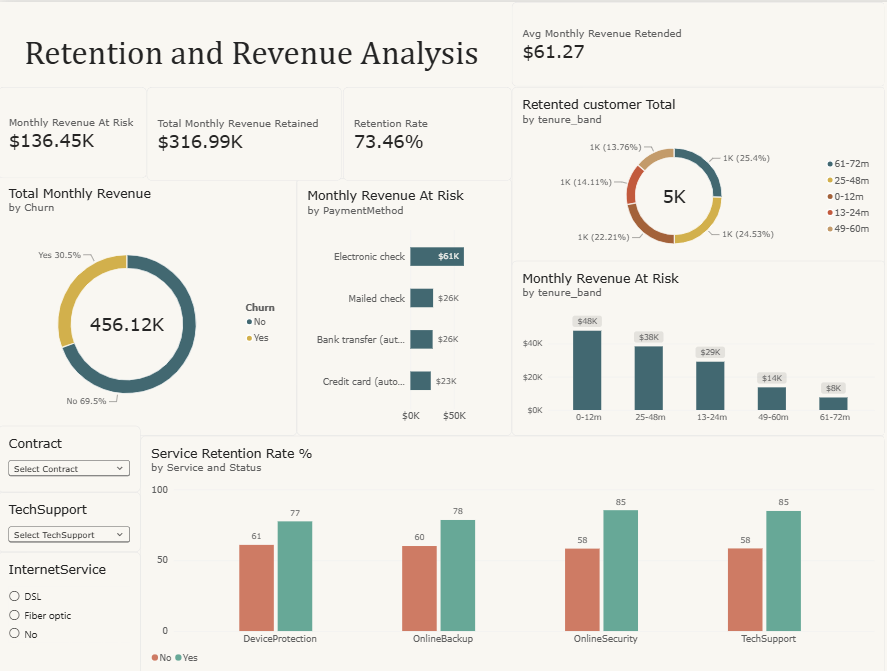

The dashboard page shown, as its layout file describes it:
{"tool":"powerbi","page":{"name":"Retention And Revenue Analysis","canvas":[1920,1080],"ordinal":2},"visuals":[{"type":"textbox","box":[0,48.3,1022.5,87.5],"z":0},{"type":"donutChart","fields":{"Category":["telco_clean_using_py.tenure_band"],"Y":["measures_.retention customer total"]},"box":[822,136,598,290],"z":1000},{"type":"donutChart","fields":{"Category":["telco_clean_using_py.Churn"],"Y":["Sum(telco_clean_using_py.MonthlyCharges)"]},"box":[0,278,478,416],"z":2000},{"type":"clusteredColumnChart","fields":{"Category":["telco_clean_using_py.tenure_band"],"Y":["measures_.Montly Revenue At Risk"]},"box":[822,414,598,280],"z":3000},{"type":"clusteredBarChart","fields":{"Category":["telco_clean_using_py.PaymentMethod"],"Y":["measures_.Montly Revenue At Risk"]},"box":[478,282,344,412],"z":4000},{"type":"cardVisual","fields":{"Data":["measures_.Retention Rate"]},"box":[551.2,136.2,270,150],"z":5000},{"type":"cardVisual","fields":{"Data":["measures_.Total monthly revenue retendered customer"]},"box":[238.8,136.2,312.5,150],"z":6000},{"type":"cardVisual","fields":{"Data":["measures_.Montly Revenue At Risk"]},"box":[0,136,238,146],"z":7000},{"type":"cardVisual","fields":{"Data":["measures_.Avg Monthly Revenue Retended"]},"box":[821.4,0,598.6,135.7],"z":8000},{"type":"clusteredColumnChart","fields":{"Category":["Service Retention Summary.Service"],"Series":["Service Retention Summary.Status"],"Y":["measures_.Service Retention Rate %"]},"box":[228,694,1191.7,386.7],"z":9000},{"type":"listSlicer","fields":{"Values":["telco_clean_using_py.TechSupport"]},"box":[0,784,228,96],"z":9500},{"type":"listSlicer","fields":{"Values":["telco_clean_using_py.Contract"]},"box":[0,678,228,106],"z":10000},{"type":"listSlicer","fields":{"Values":["telco_clean_using_py.InternetService"]},"box":[0,880,228,200],"z":12000}]}

Visuals, with their boxes on the page's 1920x1080 design canvas (x1, y1, x2, y2). These are canvas units, not pixel positions in the 887x671 screenshot, which may show the page scaled, cropped or inside an application window:
textbox: region(0, 48, 1022, 136)
donutChart - telco_clean_using_py.tenure_band x measures_.retention customer total: region(822, 136, 1420, 426)
donutChart - telco_clean_using_py.Churn x Sum(telco_clean_using_py.MonthlyCharges): region(0, 278, 478, 694)
clusteredColumnChart - telco_clean_using_py.tenure_band x measures_.Montly Revenue At Risk: region(822, 414, 1420, 694)
clusteredBarChart - telco_clean_using_py.PaymentMethod x measures_.Montly Revenue At Risk: region(478, 282, 822, 694)
cardVisual - measures_.Retention Rate: region(551, 136, 821, 286)
cardVisual - measures_.Total monthly revenue retendered customer: region(239, 136, 551, 286)
cardVisual - measures_.Montly Revenue At Risk: region(0, 136, 238, 282)
cardVisual - measures_.Avg Monthly Revenue Retended: region(821, 0, 1420, 136)
clusteredColumnChart - Service Retention Summary.Service x Service Retention Summary.Status: region(228, 694, 1420, 1081)
listSlicer - telco_clean_using_py.TechSupport: region(0, 784, 228, 880)
listSlicer - telco_clean_using_py.Contract: region(0, 678, 228, 784)
listSlicer - telco_clean_using_py.InternetService: region(0, 880, 228, 1080)
